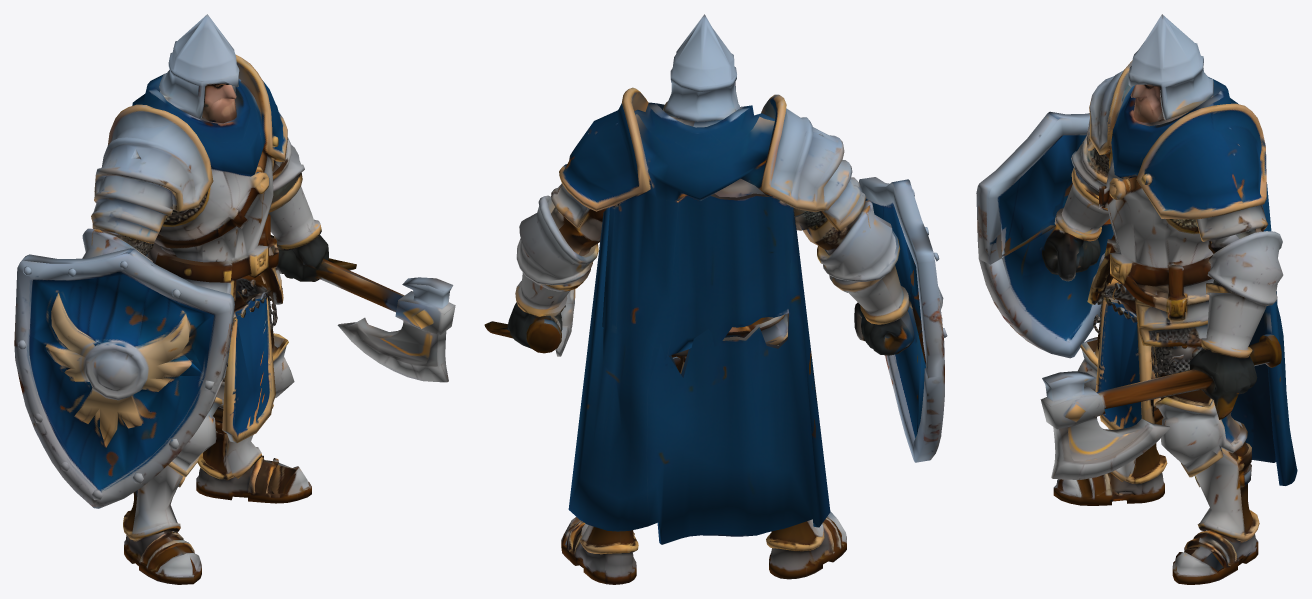
File: shield_soldier.fbx
3 views of the same model, side by side, from view 1: azimuth 30°, elevation 25°; view 2: azimuth 150°, elevation 25°; view 3: azimuth 270°, elevation 25° (orthographic). The views are drawn at different scales.
Visible parts, largest first — view 1: texture_pbr_v128; view 2: texture_pbr_v128; view 3: texture_pbr_v128.
Boxes of the visible parts, x1=… form: texture_pbr_v128: x1=14, y1=14, x2=455, y2=584; texture_pbr_v128: x1=484, y1=14, x2=947, y2=584; texture_pbr_v128: x1=976, y1=14, x2=1297, y2=584.
Bounding box in the file's own units: 156 × 190 × 107.
1 material, 1 textured.
